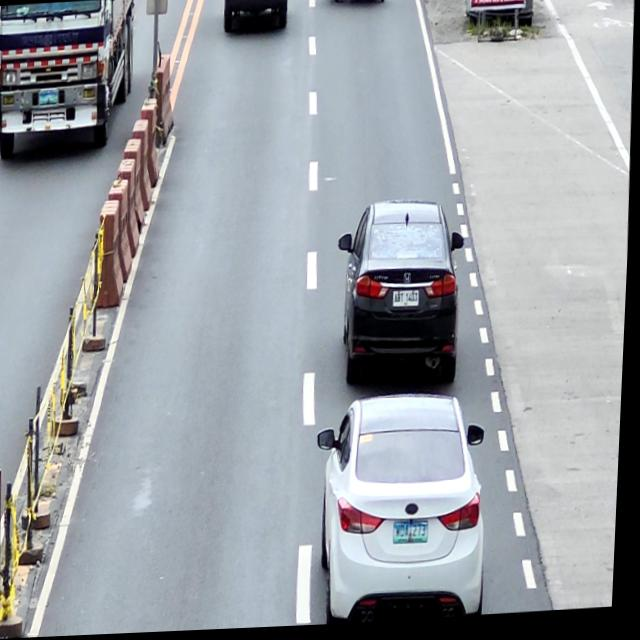Car: (314, 392, 497, 628), (335, 199, 470, 391)
License-Plate: (397, 524, 434, 548), (395, 293, 423, 311), (38, 90, 60, 105)
Truck: (0, 0, 140, 158)
